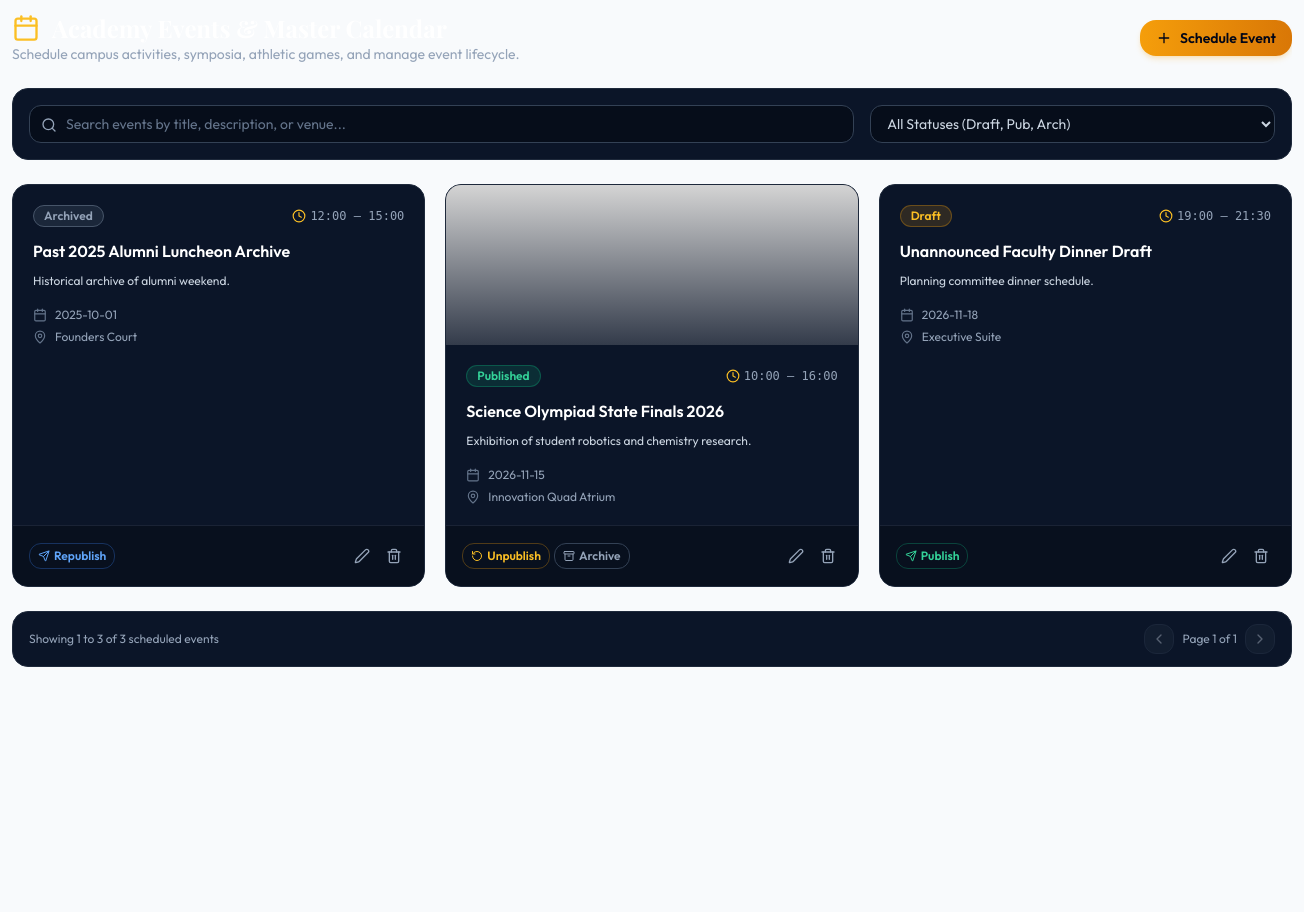
Scenario: PHASE 15 — Notice and Event Management Frontend Test Suite › Admin Events Management Section › should filter events by status (DRAFT / ARCHIVED)
Expected: the heading "Science Olympiad State Finals 2026" is shown, top-left (466, 401), bottom-right (724, 421)
Select "Drafts Only" in the dropdown with test id "event-status-filter": (1073, 124) top-left (870, 105), bottom-right (1275, 143)
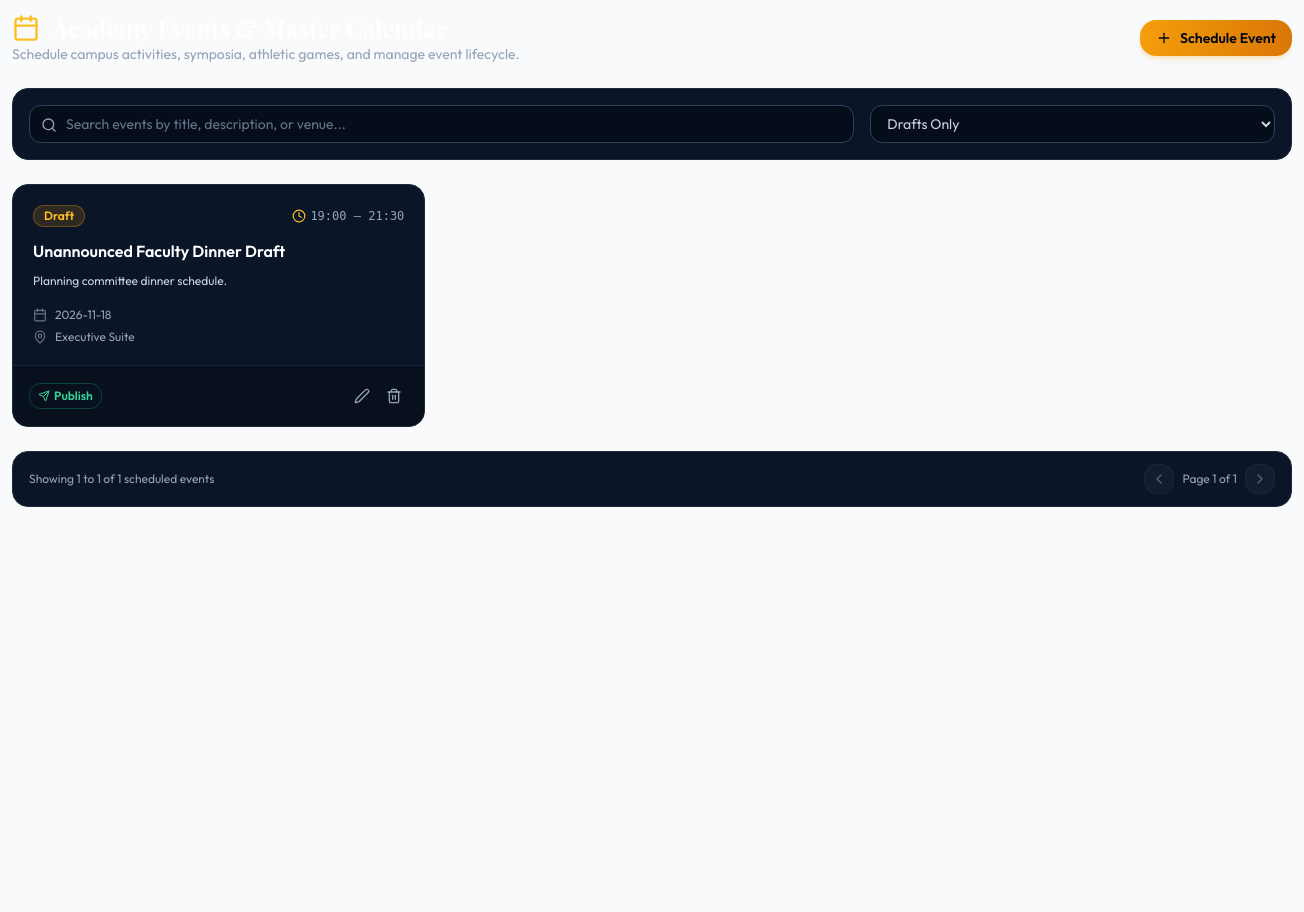
Expected: the heading "Unannounced Faculty Dinner Draft" is shown, top-left (33, 241), bottom-right (285, 261)
Expected: the heading "Science Olympiad State Finals 2026" is gone
